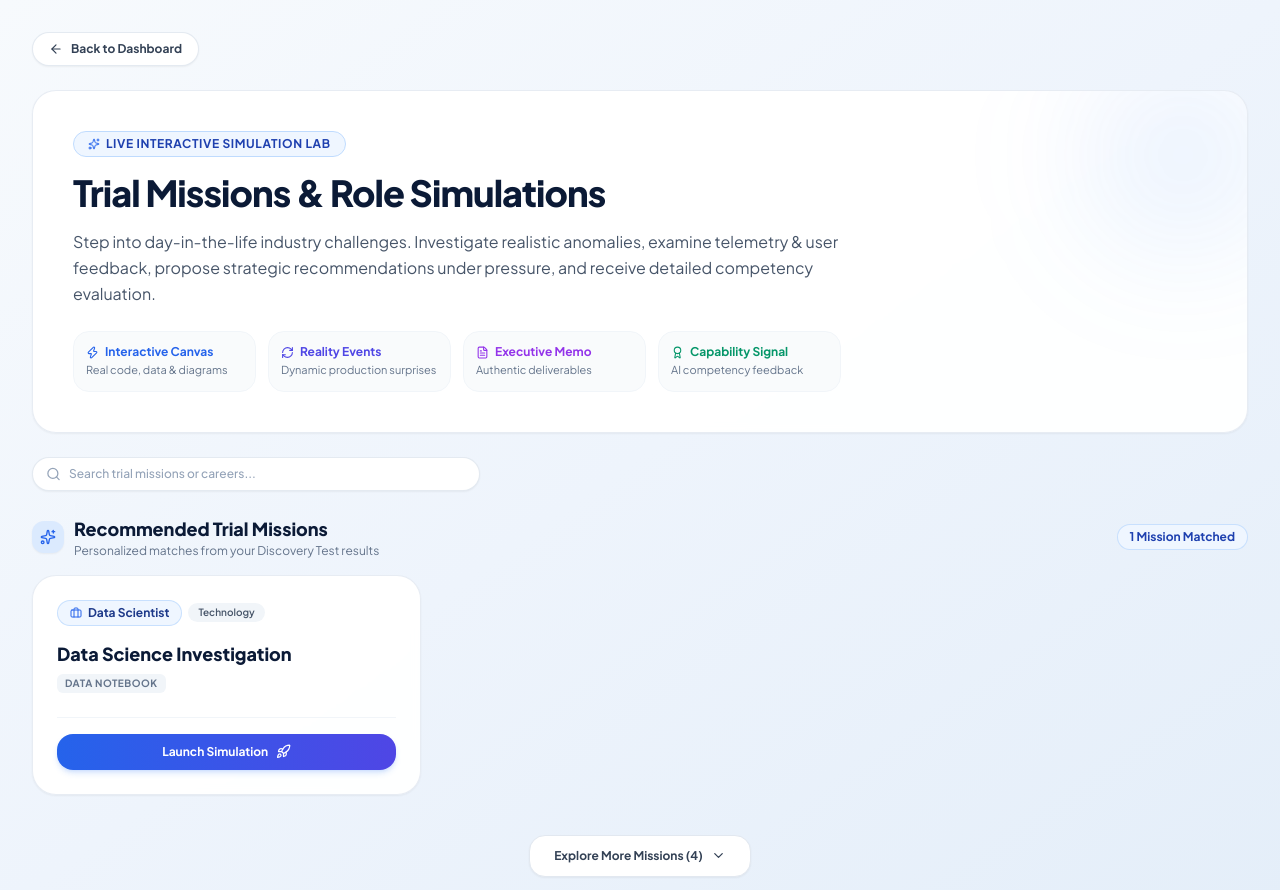
Scenario: Discovery Recommended Missions, Explore More & Dynamic Sector Filter › 6. Derives dynamic sector filter options from returned mission data and filters correctly
Click the button "Explore More Missions (4)" at (640, 856), box [529, 834, 751, 876]
(page scrolled)
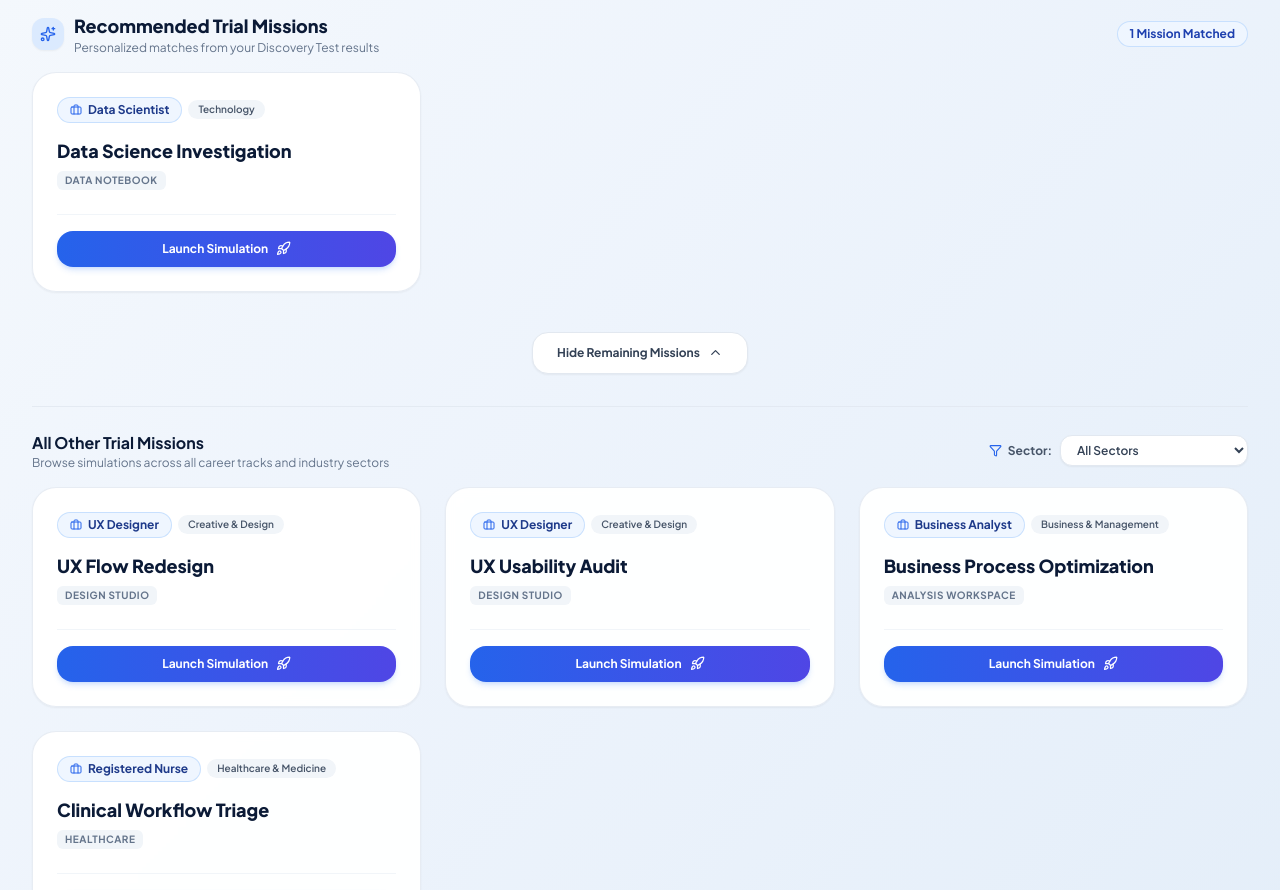
Result: the dropdown named "sector filter" is shown
Note: Filter by "Healthcare & Medicine"
Select "Healthcare & Medicine" in the dropdown named "sector filter" at (1154, 450), box [1060, 435, 1248, 466]
(page scrolled)
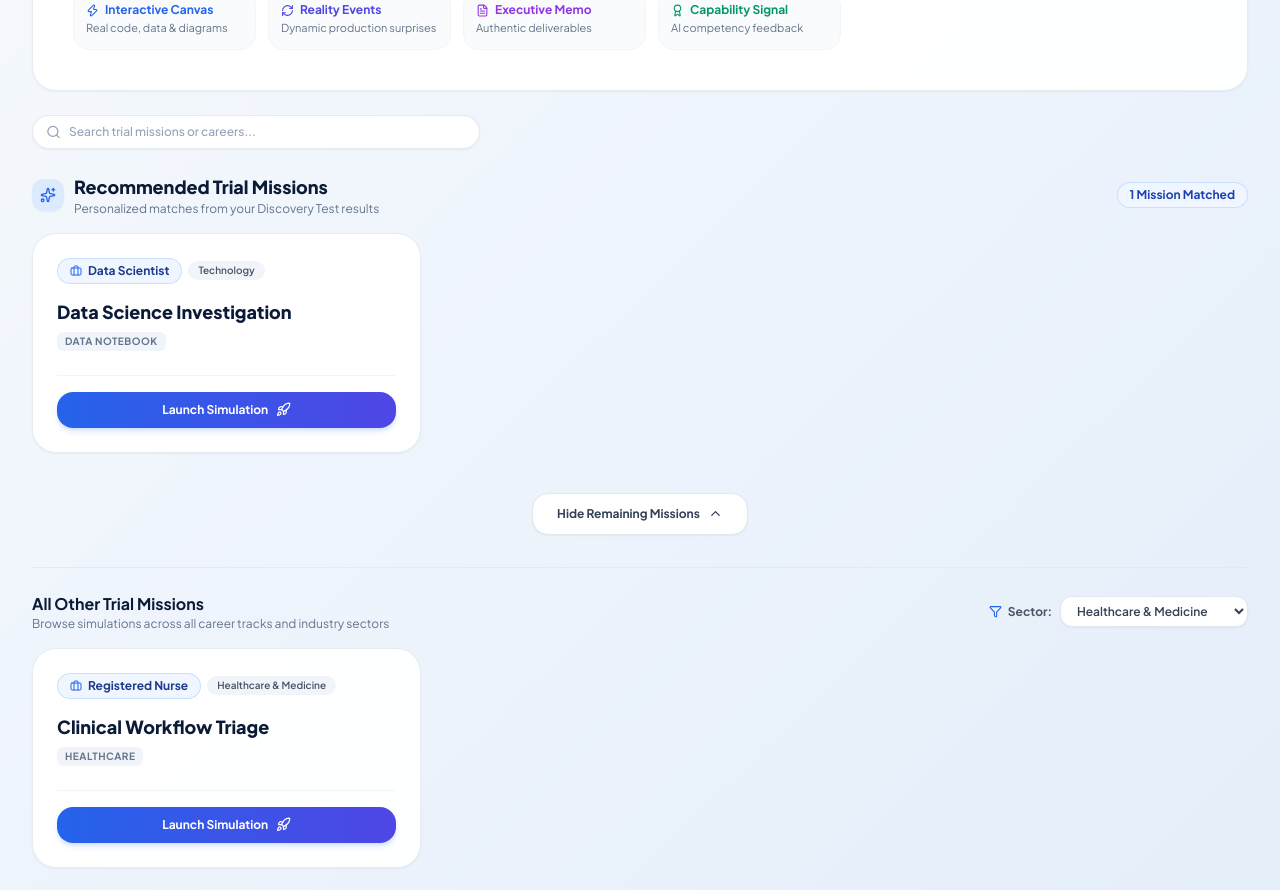
Result: the heading "Clinical Workflow Triage" is shown at [57, 714, 269, 738]
Result: the heading "Business Process Optimization" is gone
Note: Filter back to "all"
Select "All Sectors" in the dropdown named "sector filter" at (1154, 612), box [1060, 596, 1248, 627]
(page scrolled)
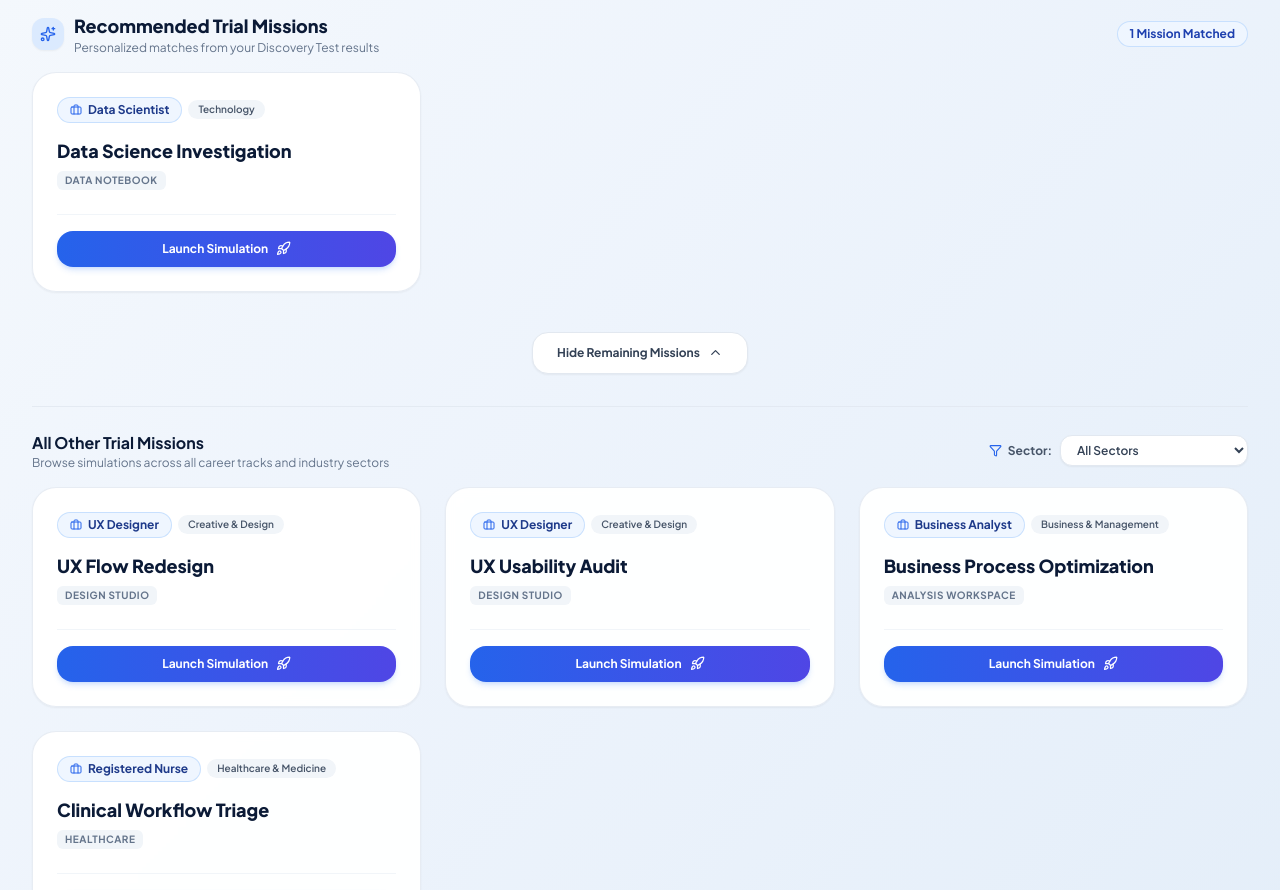
Result: the heading "Clinical Workflow Triage" is shown at [57, 798, 269, 820]
Result: the heading "Business Process Optimization" is shown at [884, 554, 1154, 576]
